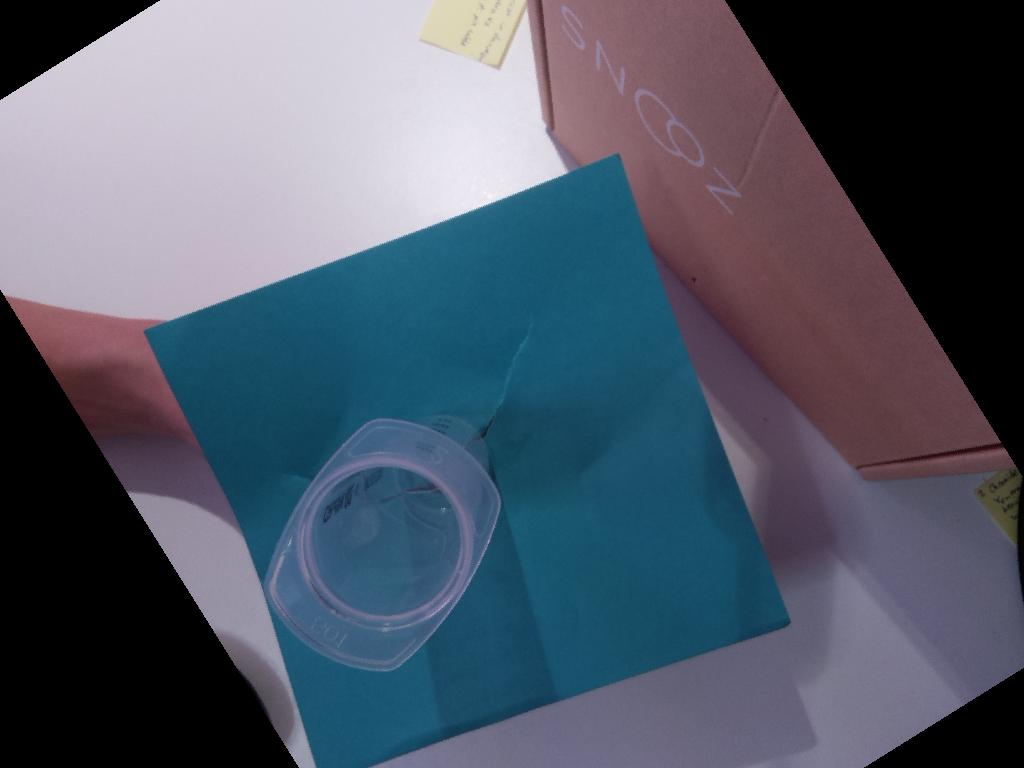clean: (260, 416, 505, 674)
